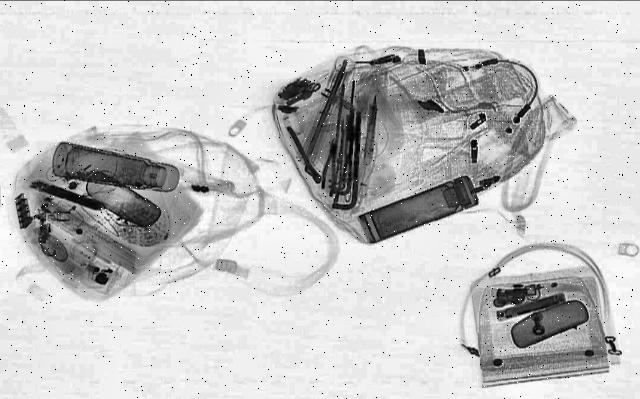Pliers: (319, 138, 345, 194)
Wrench: (283, 125, 327, 183)
